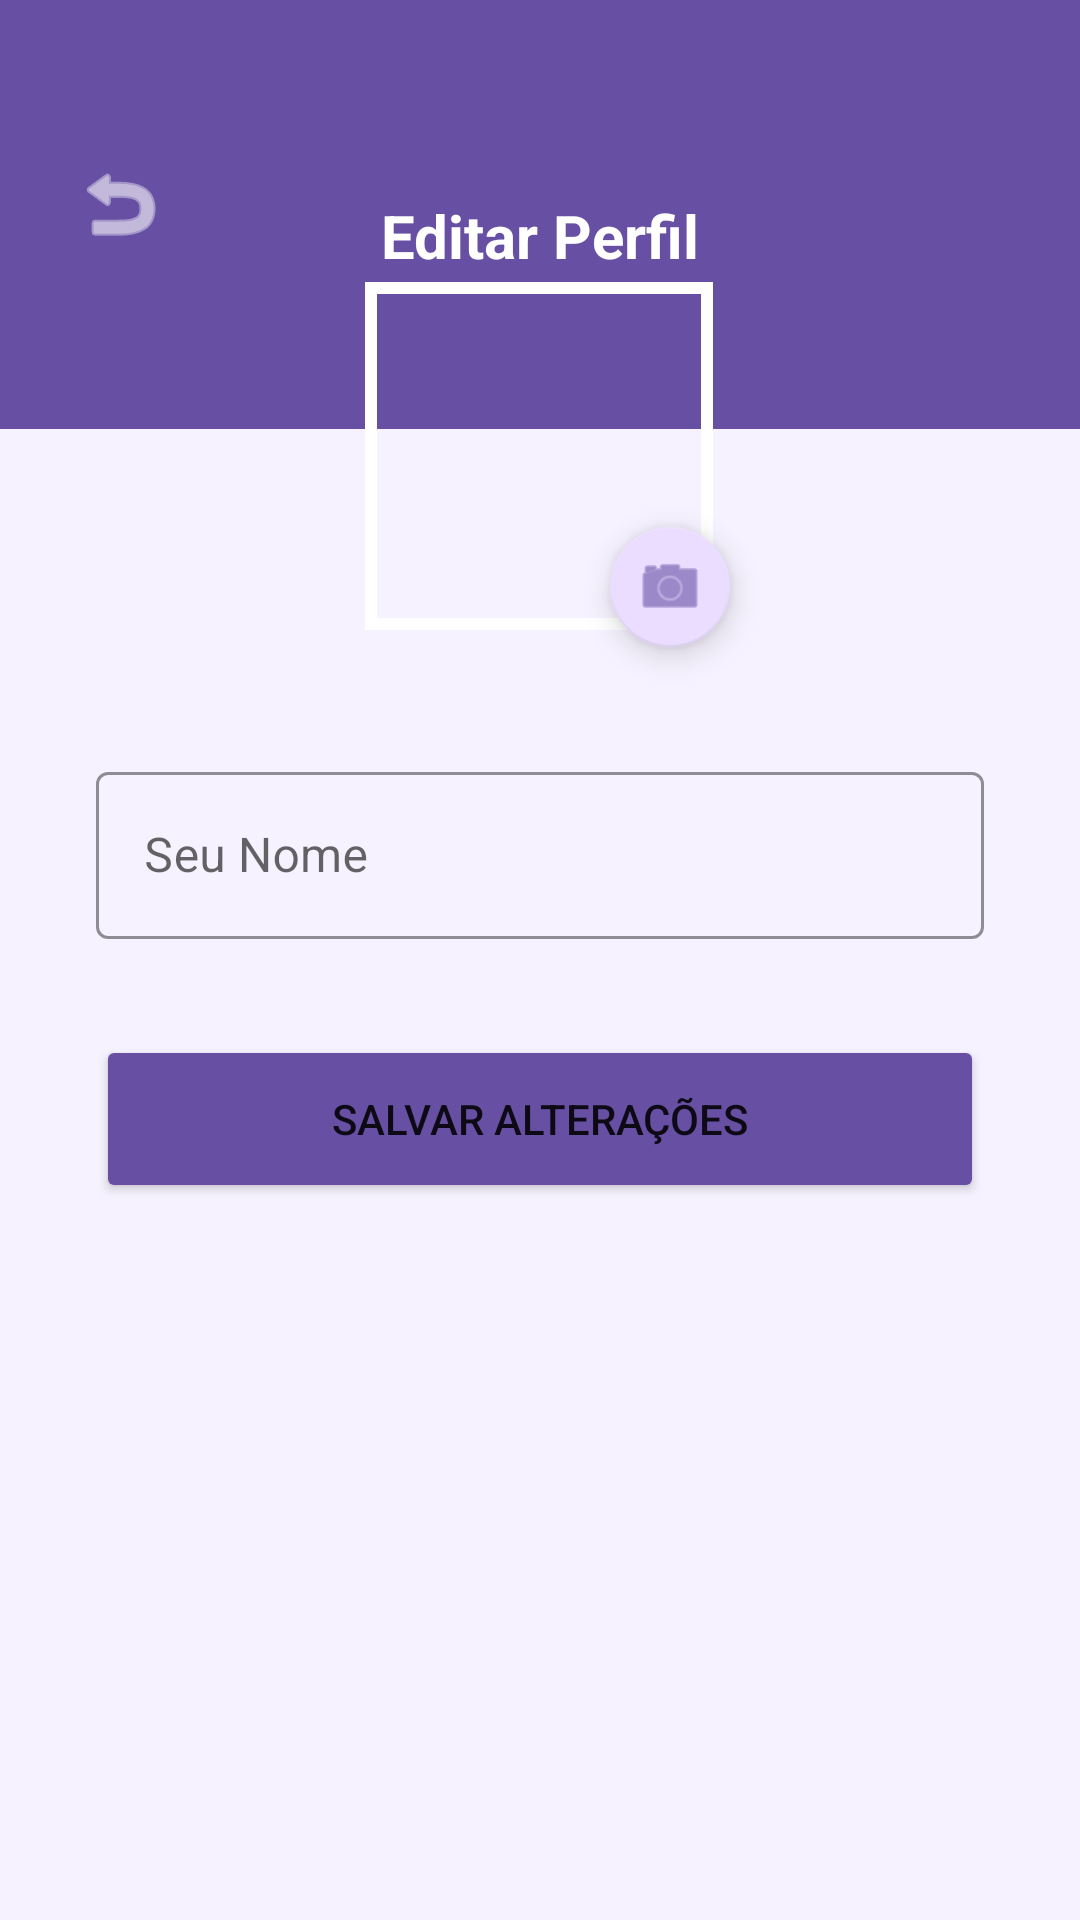

Named icons in this screenshot (1080*1920) and their bounding boxes, (x1, y1, x2, y2):
camera: (598, 515, 741, 659)
revert: (87, 173, 156, 236)
